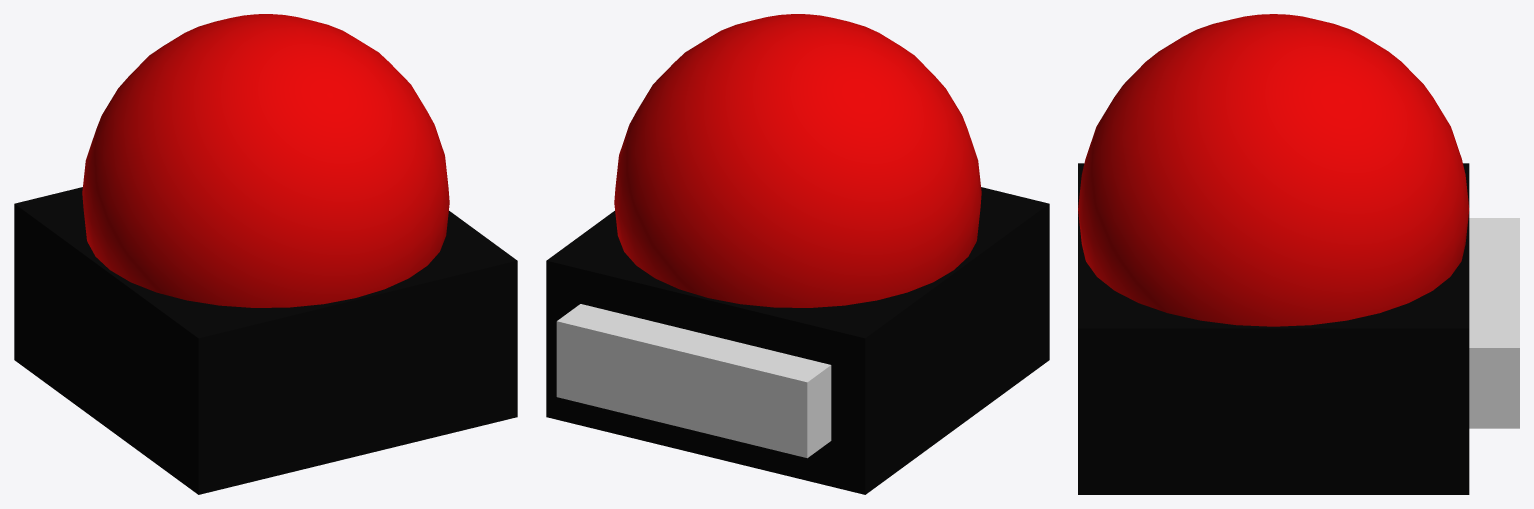
Rendered from Monster.fbx.
3 renders of one model, left to right at view 1: azimuth 30°, elevation 25°; view 2: azimuth 150°, elevation 25°; view 3: azimuth 270°, elevation 25°, orthographic. The views are drawn at different scales.
Visible parts, largest first — view 1: monster; view 2: monster; view 3: monster.
Part boxes in pixels (x1,y1,x2,y2): monster: [14, 14, 517, 494]; monster: [546, 14, 1049, 494]; monster: [1078, 14, 1519, 494].
Size of the model in its own units: 100 by 107 by 113.
